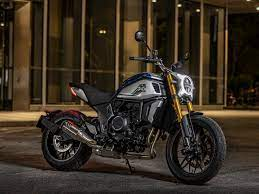Motorbike: (37, 31, 226, 184)
